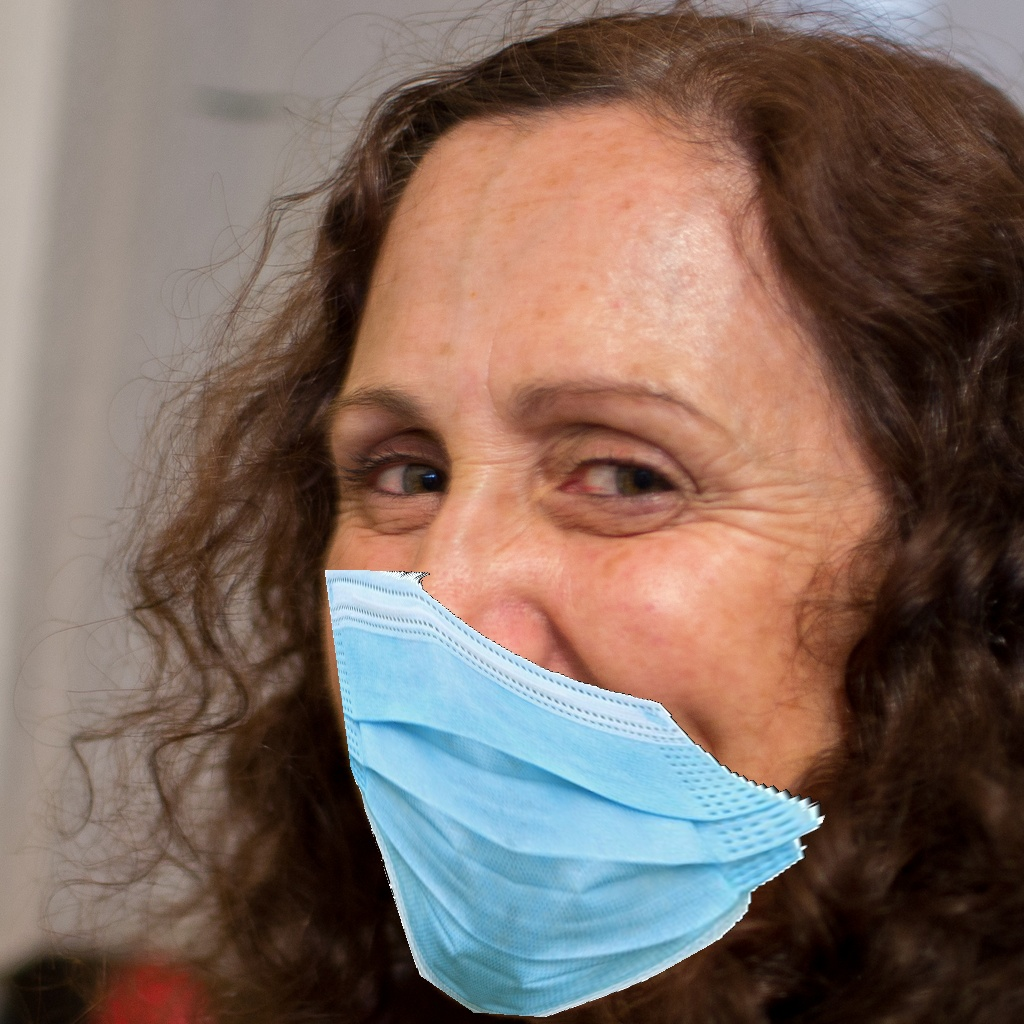Mask: (317, 391, 887, 1017)
